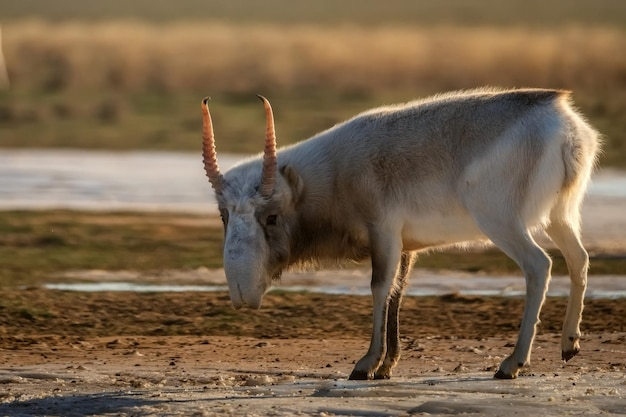saiga: (199, 88, 600, 385)
